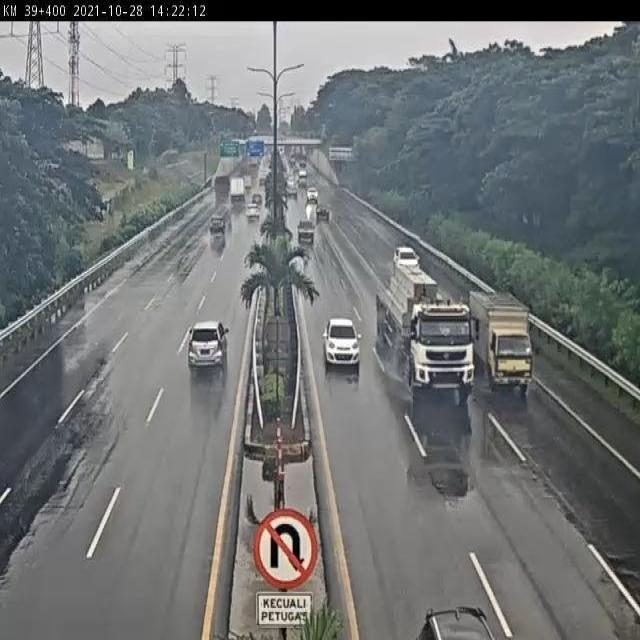Car: (406, 588, 497, 640), (174, 312, 236, 382), (323, 314, 361, 374), (386, 236, 426, 274), (204, 206, 234, 242), (300, 185, 328, 206)
Truck: (385, 273, 479, 411), (471, 282, 542, 378), (221, 173, 250, 204)
